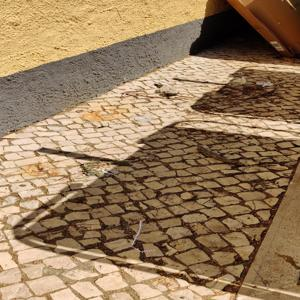plastic: (126, 212, 154, 255), (253, 75, 279, 90), (228, 72, 248, 87)
